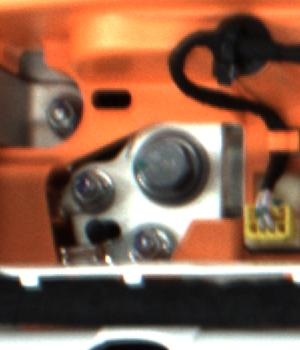nut_b: (132, 126, 219, 208)
screw_s: (41, 96, 82, 143), (69, 173, 112, 213), (131, 225, 173, 263)
